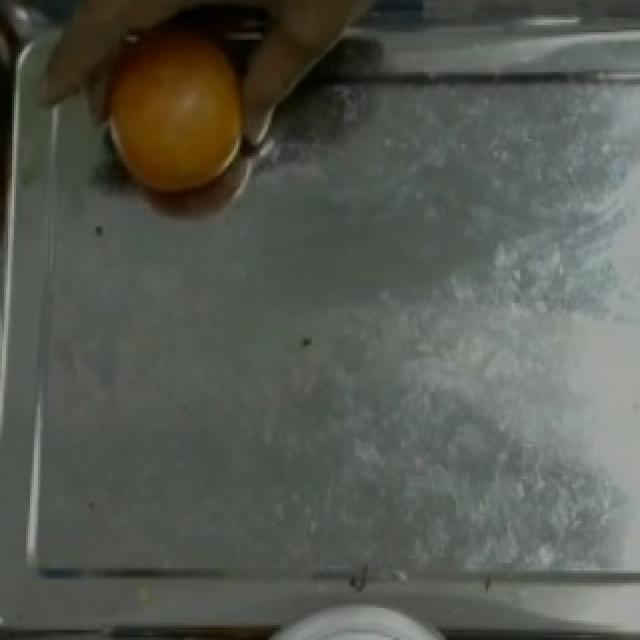Fruit: (82, 2, 270, 211)
